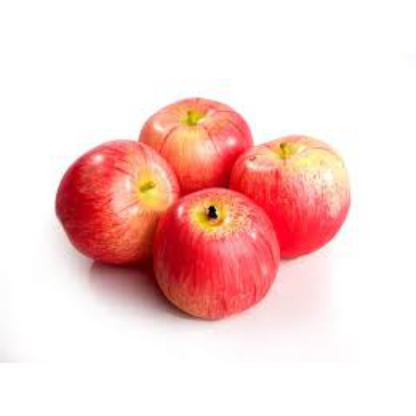apple: (154, 193, 276, 311), (230, 134, 348, 256), (57, 142, 175, 250), (140, 100, 260, 184)
